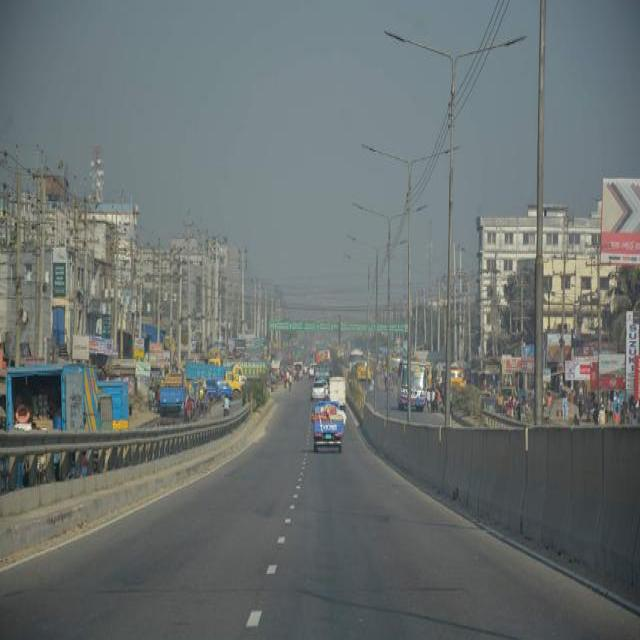11: (3, 360, 97, 471), (98, 378, 130, 426), (311, 400, 341, 449), (188, 369, 240, 394), (158, 371, 186, 413), (496, 383, 528, 404), (328, 372, 346, 402)
13: (197, 388, 211, 418)
18: (208, 354, 266, 376), (351, 358, 371, 378), (448, 367, 464, 388)
5: (309, 377, 325, 398)
7: (291, 359, 301, 377)
Motorcycle: (221, 401, 229, 415)
Truck: (395, 358, 427, 406), (314, 343, 331, 363)
